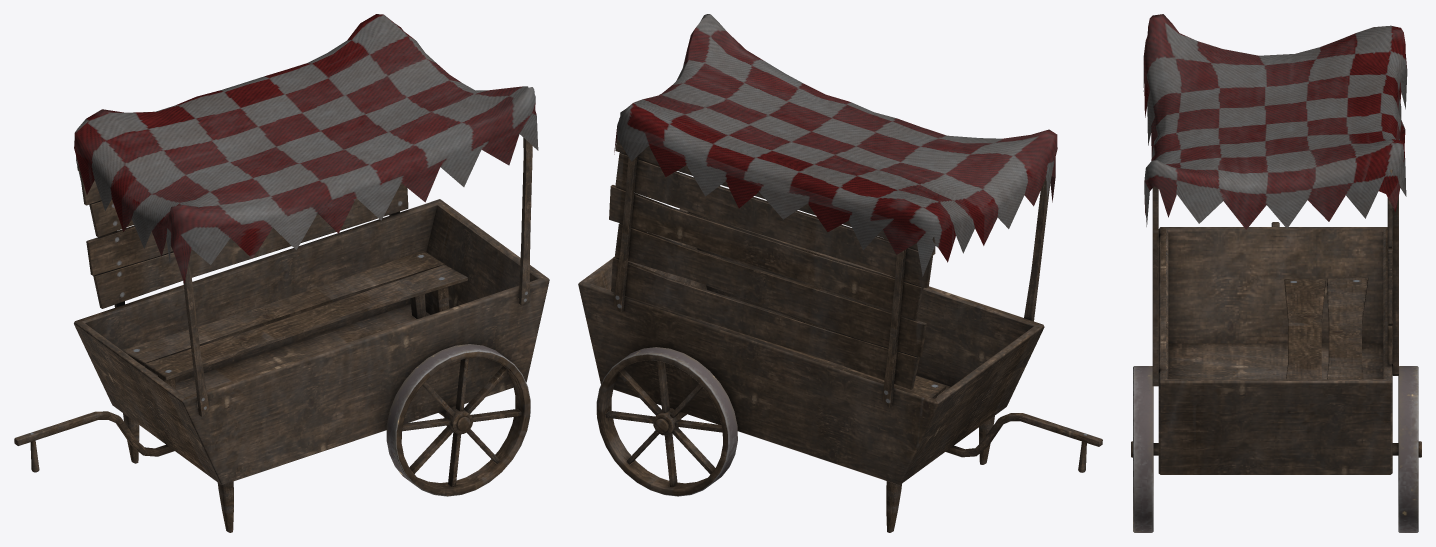
Rendered from MarketCart_M.fbx.
The picture shows the model from 3 angles, left to right: view 1: azimuth 30°, elevation 25°; view 2: azimuth 150°, elevation 25°; view 3: azimuth 270°, elevation 25°; orthographic projection. The views are drawn at different scales.
Visible parts, largest first — view 1: RichHouseAssets:MarketCartMesh; view 2: RichHouseAssets:MarketCartMesh; view 3: RichHouseAssets:MarketCartMesh.
Part boxes in pixels (x1,y1,x2,y2): RichHouseAssets:MarketCartMesh: [14, 14, 549, 532]; RichHouseAssets:MarketCartMesh: [578, 14, 1102, 532]; RichHouseAssets:MarketCartMesh: [1131, 14, 1421, 532].
Size of the model in its own units: 295 by 224 by 146.
